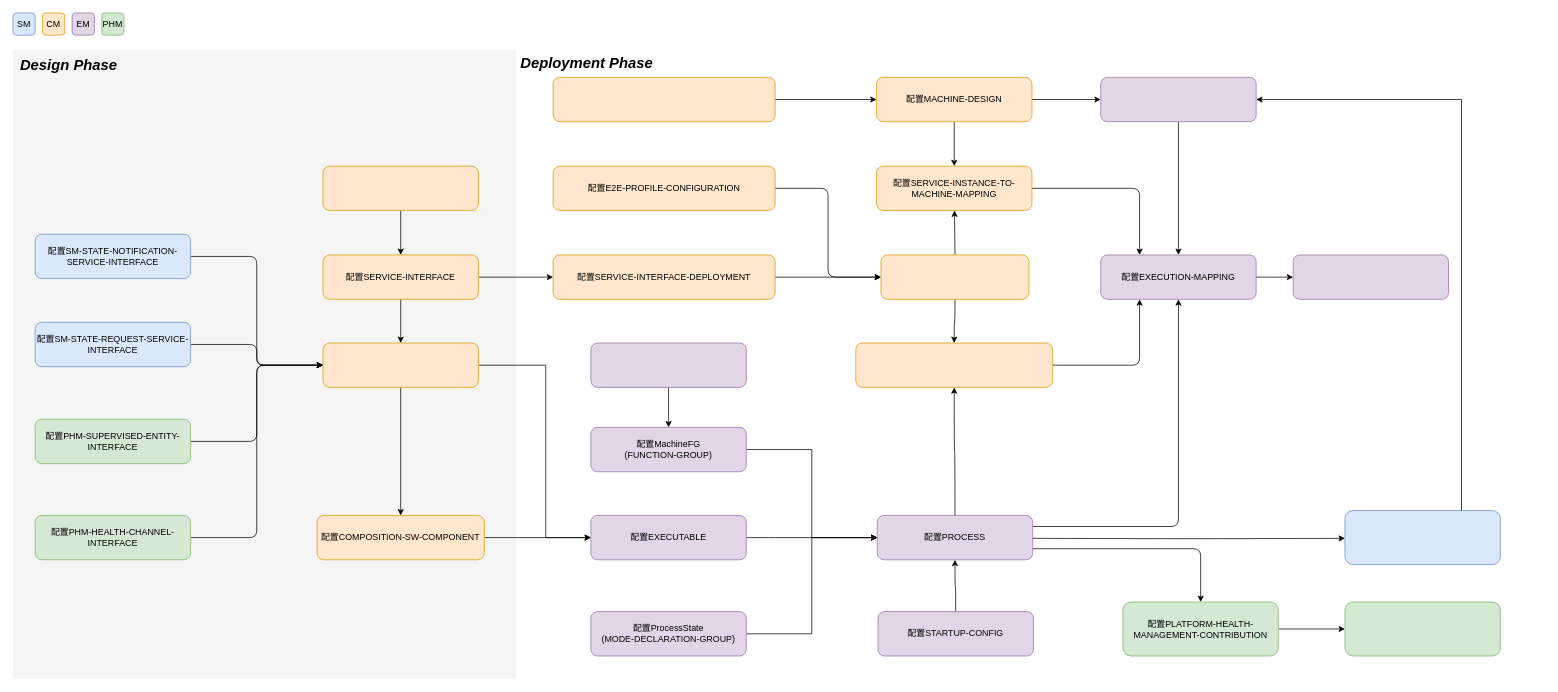
Some shapes in this 1558 by 692 pixel diagram are drawn without their labels. Here are the shapes that lost their labels. From the top down, the box of each, then its label:
(552, 77, 775, 122): 配置ETHERNET-CLUSTER
(1100, 77, 1256, 122): 配置MACHINE
(322, 165, 478, 211): 配置DATA-TYPE
(880, 254, 1029, 299): 配置SERVICE-INSTANCE
(1292, 254, 1449, 299): 配置SOFTWARE-CLUSTER
(322, 342, 478, 387): 配置SW-COMPONENT
(590, 342, 746, 387): 配置MachineState (MODE-DECLARATION-GROUP)
(855, 342, 1053, 387): 配置PROCESS-PORT-MAPPING
(1344, 510, 1500, 565): 配置STATE-MANAGEMENT-MODULE-INSTANTIATION
(1344, 601, 1500, 656): 配置PHM-CONTRIBUTION-TO-MACHINE-MAPPING
